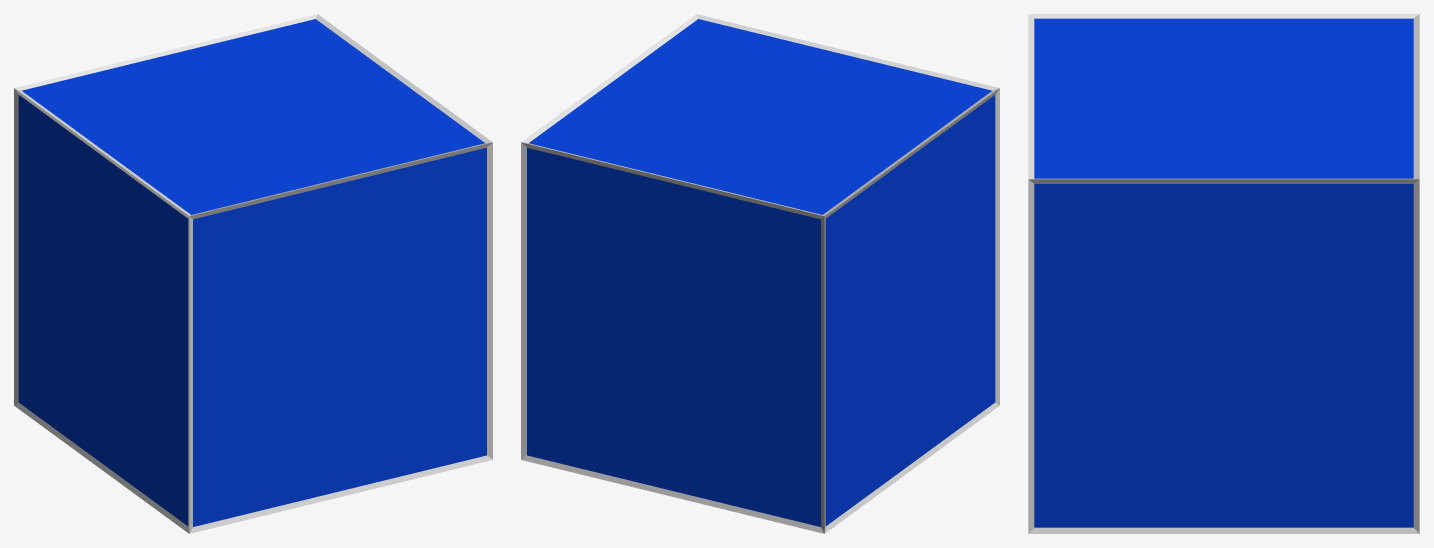
The model's file is tuto3Glitch.fbx.
The picture shows the model from 3 angles, left to right: view 1: azimuth 30°, elevation 25°; view 2: azimuth 150°, elevation 25°; view 3: azimuth 270°, elevation 25°; orthographic projection. The views are drawn at different scales.
Visible parts, largest first — view 1: Cube, outline; view 2: Cube, outline; view 3: Cube, outline.
Part boxes in pixels (box(x1,y1,x2,y2)): Cube: box(18, 19, 486, 526); outline: box(14, 14, 492, 533); Cube: box(527, 19, 995, 526); outline: box(521, 14, 999, 533); Cube: box(1034, 18, 1413, 527); outline: box(1028, 14, 1419, 533).
Bounding box in the file's own units: 506 × 506 × 506.
